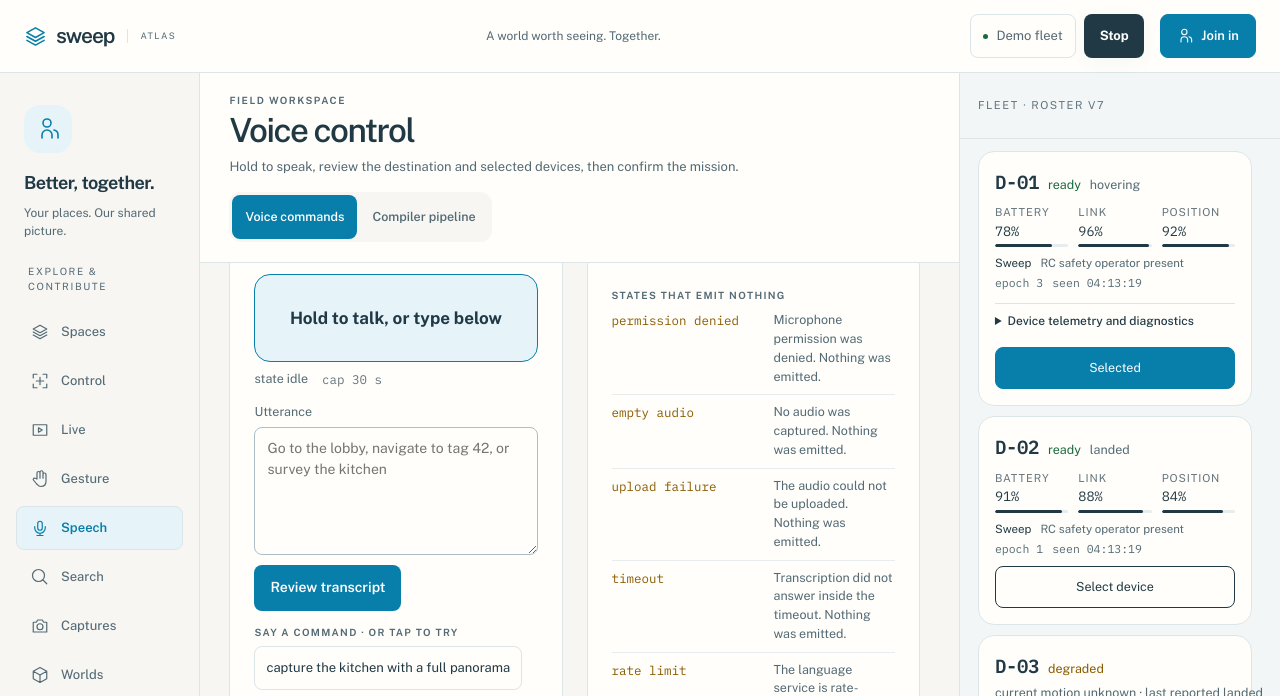
Test: typed text uses the relay semantic compiler and never local matching
The width and height of the screenshot is (1280, 696).
(page scrolled)
Step 1. Type "Go to the atrium." into the text box labelled "Utterance" → (396, 491), box [254, 427, 538, 555]
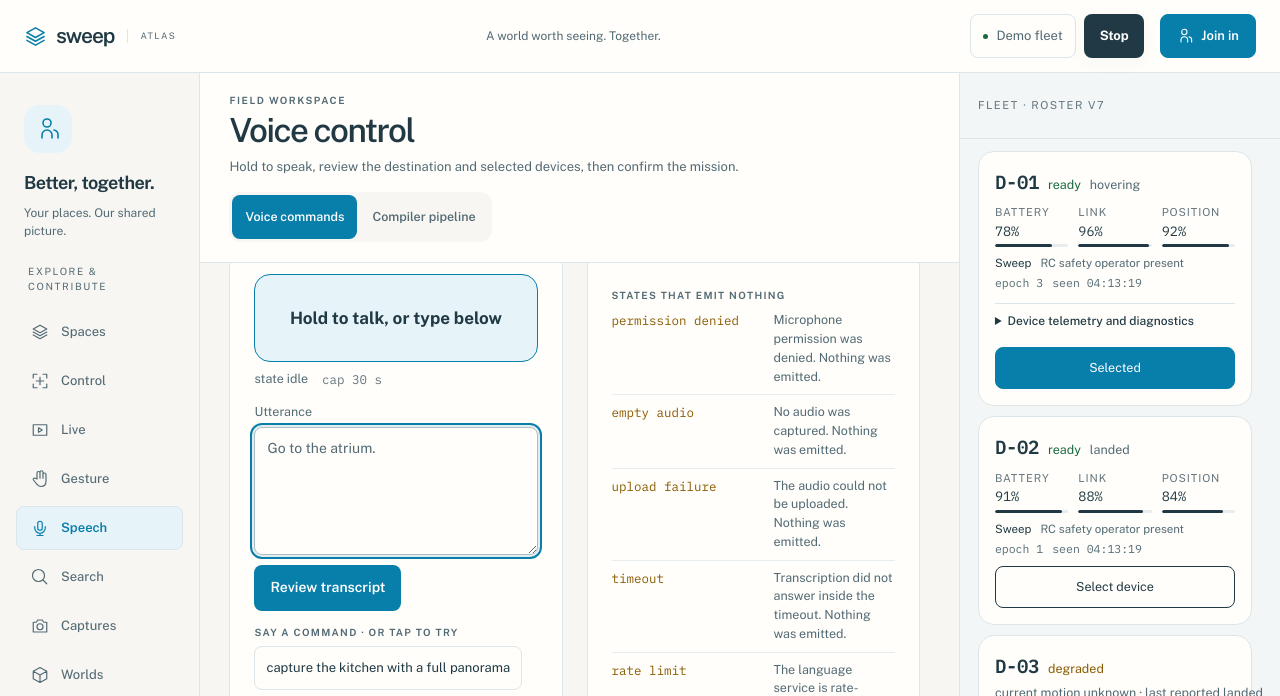
Step 2. Click the button "Review transcript" → (328, 588), box [254, 565, 401, 611]
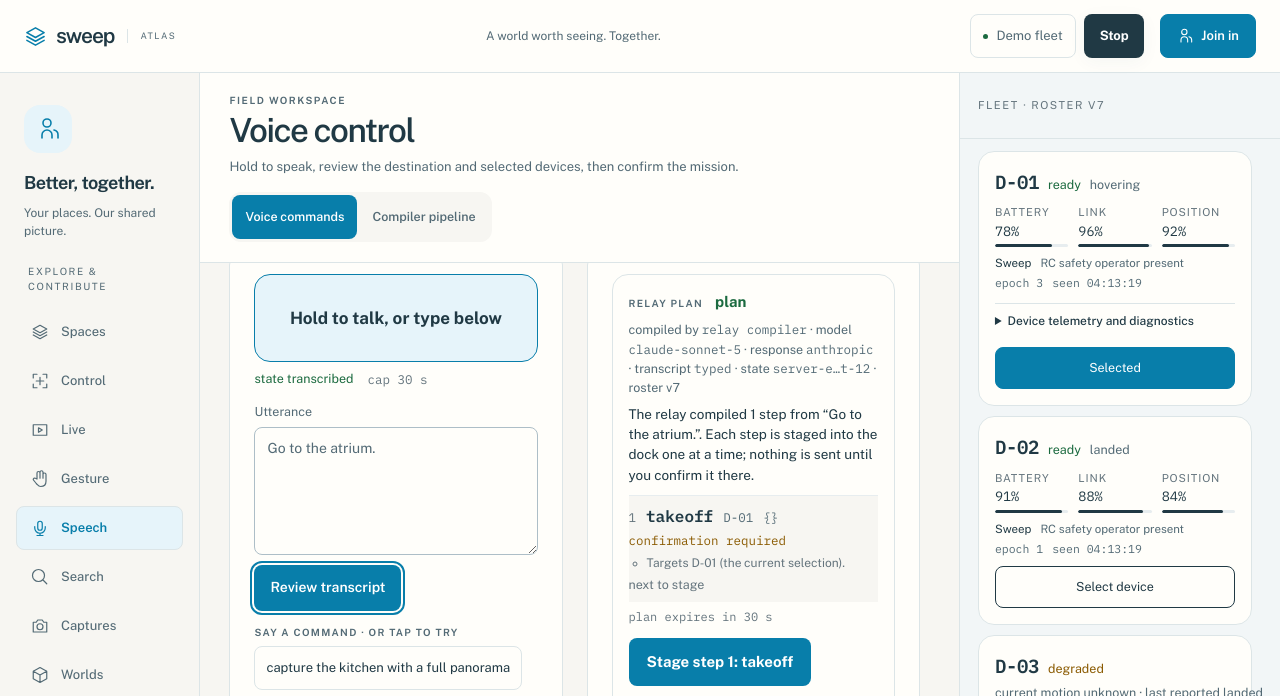
Result: the element named "Compiled plan" shows "Go to the atrium." at [628, 406, 862, 442]
